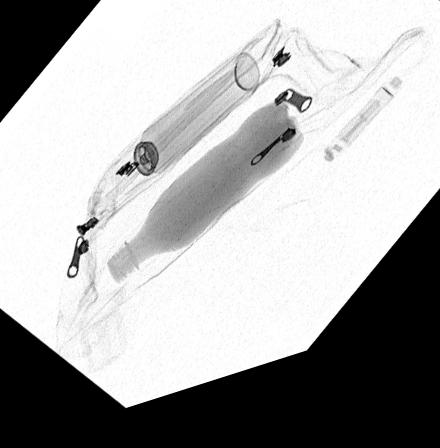Sprayer: (107, 68, 260, 202)
